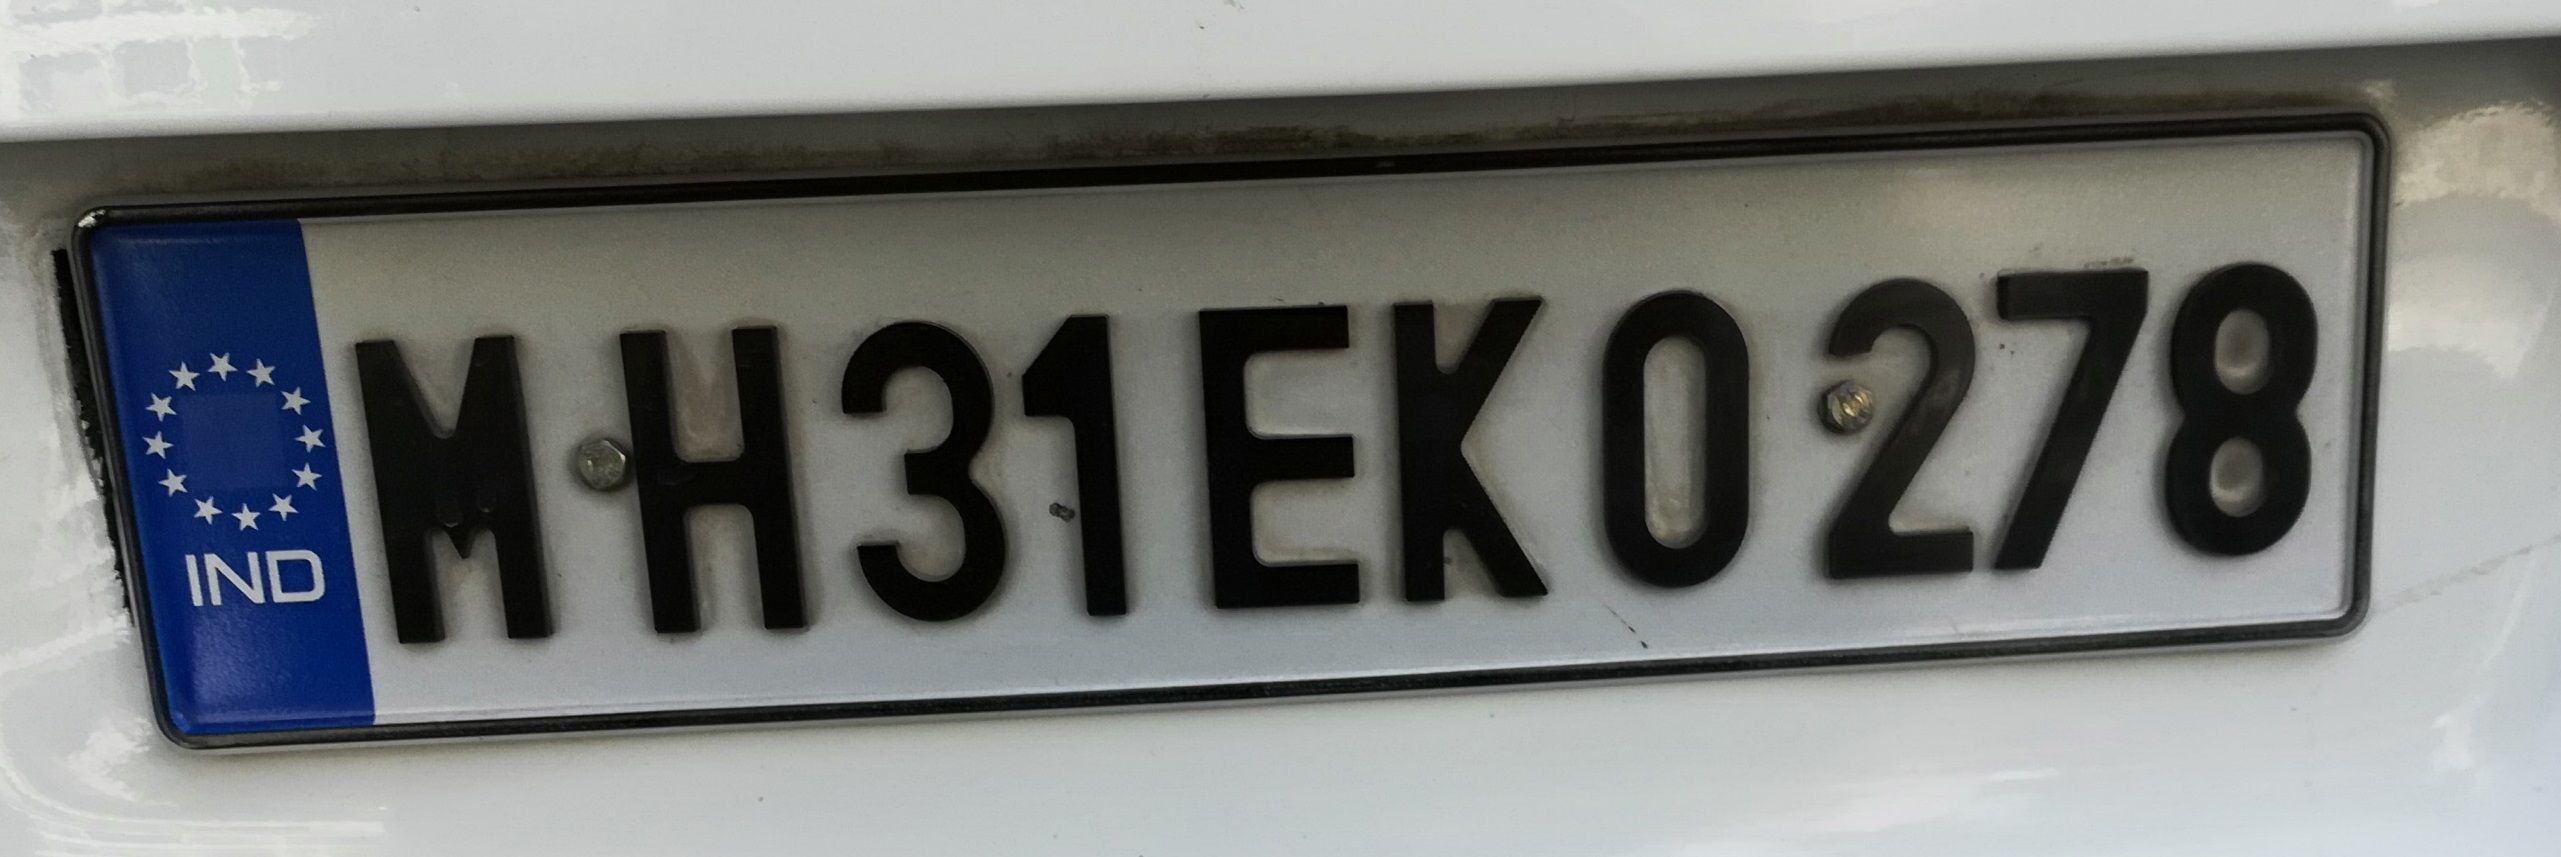numberplate: (47, 106, 2398, 750)
